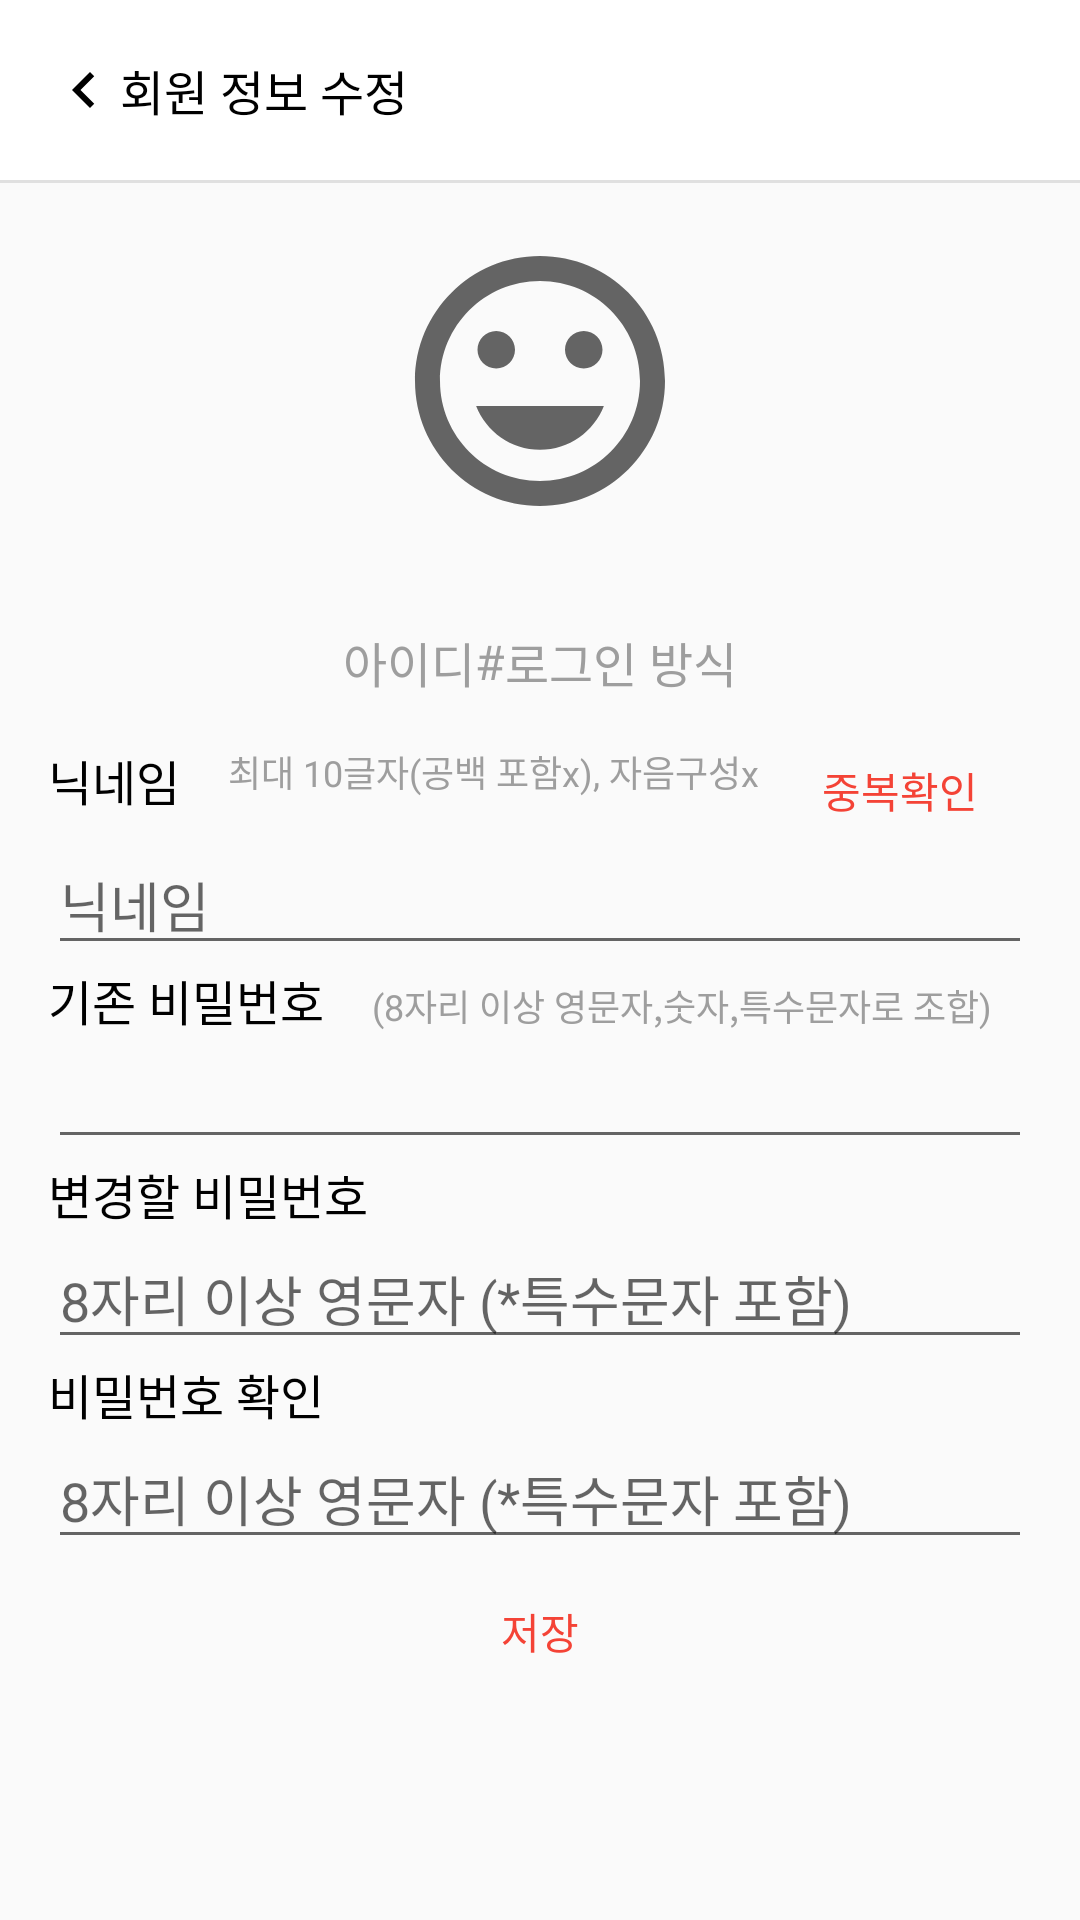

Locate icon controls on the screen. Image size 1080 × 1920, boxes as (x1, y1, x2, y2).
left arrow: (72, 72, 94, 108)
profile picture: (415, 256, 665, 506)
